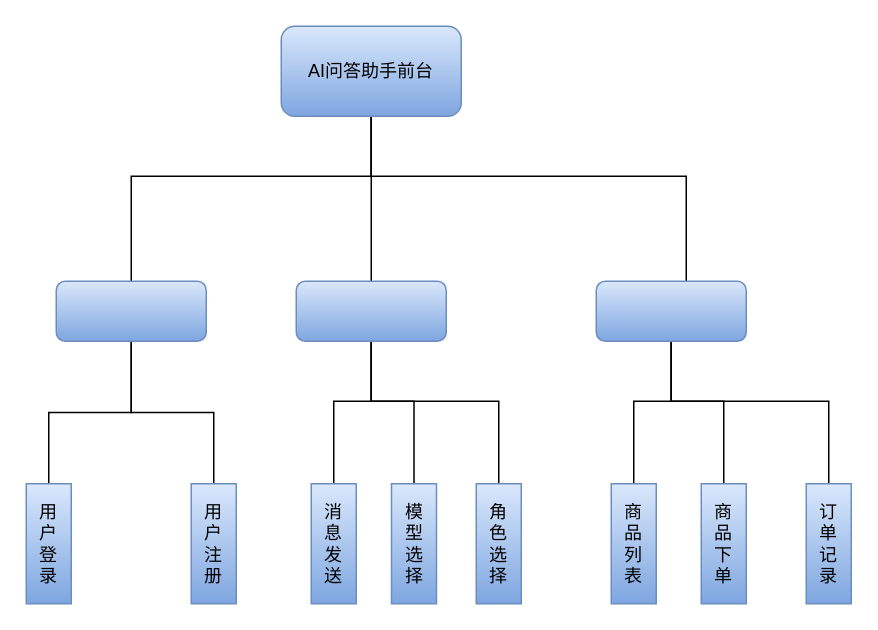
This 878x630 diagram has some shape labels left out. Here are the shapes that lost their labels. From the top down, the centre of each, then its label:
At point (130, 310): "登录模块".
At point (370, 310): "消息模块".
At point (670, 310): "商品模块".
